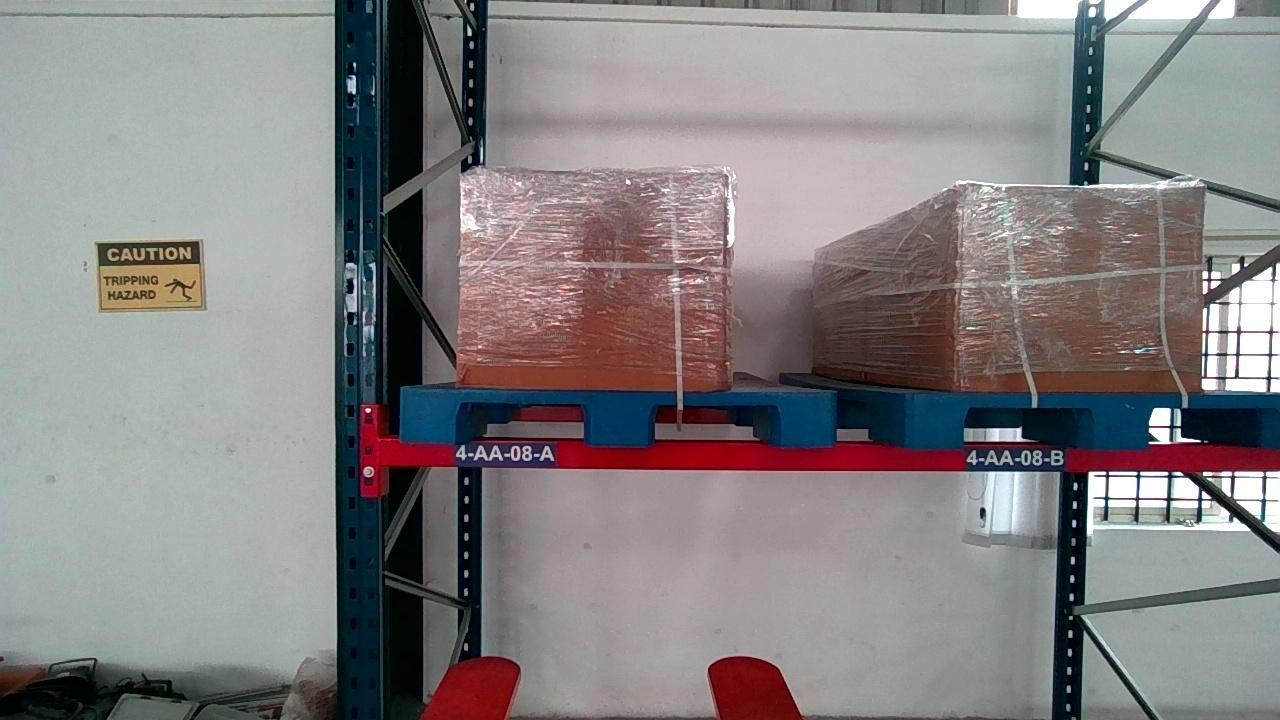h_rack: (382, 438, 1280, 471)
small_pallet: (401, 390, 834, 444), (906, 391, 1278, 446)
